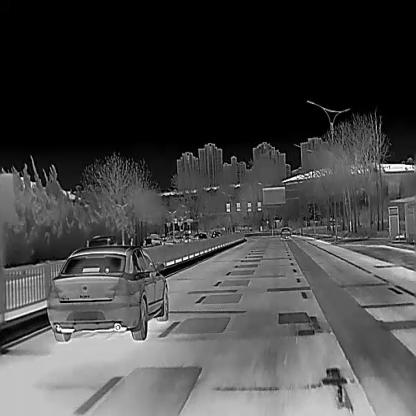car: (45, 244, 169, 341), (87, 234, 115, 245), (278, 226, 293, 240)
